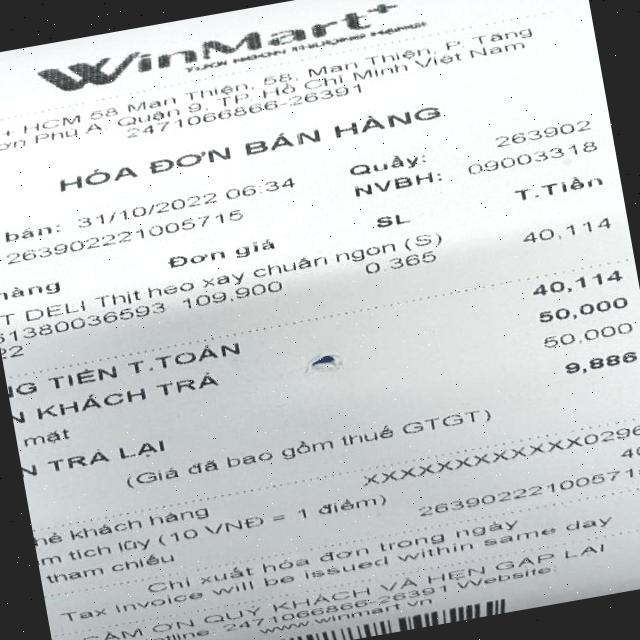Date: (68, 185, 224, 232)
Store_Name: (0, 0, 442, 107)
amount_number: (520, 264, 634, 300)
label_total: (6, 336, 247, 400)
